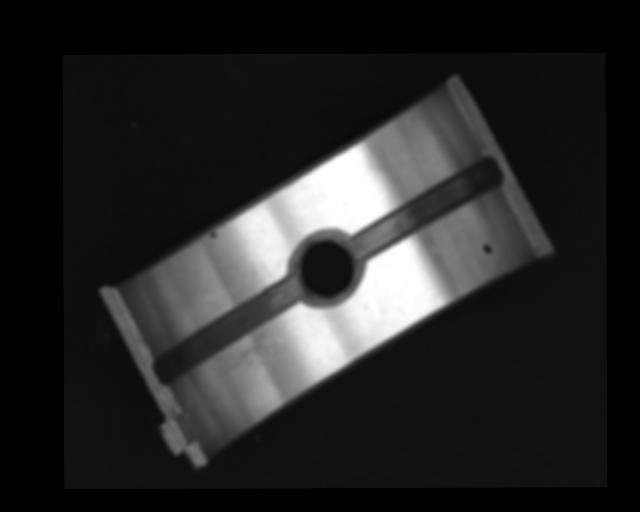blot: (482, 242, 493, 255), (207, 230, 217, 239)
gap: (152, 273, 301, 384), (352, 158, 497, 259)
hole: (293, 231, 360, 304)
scratch: (209, 319, 280, 381)
